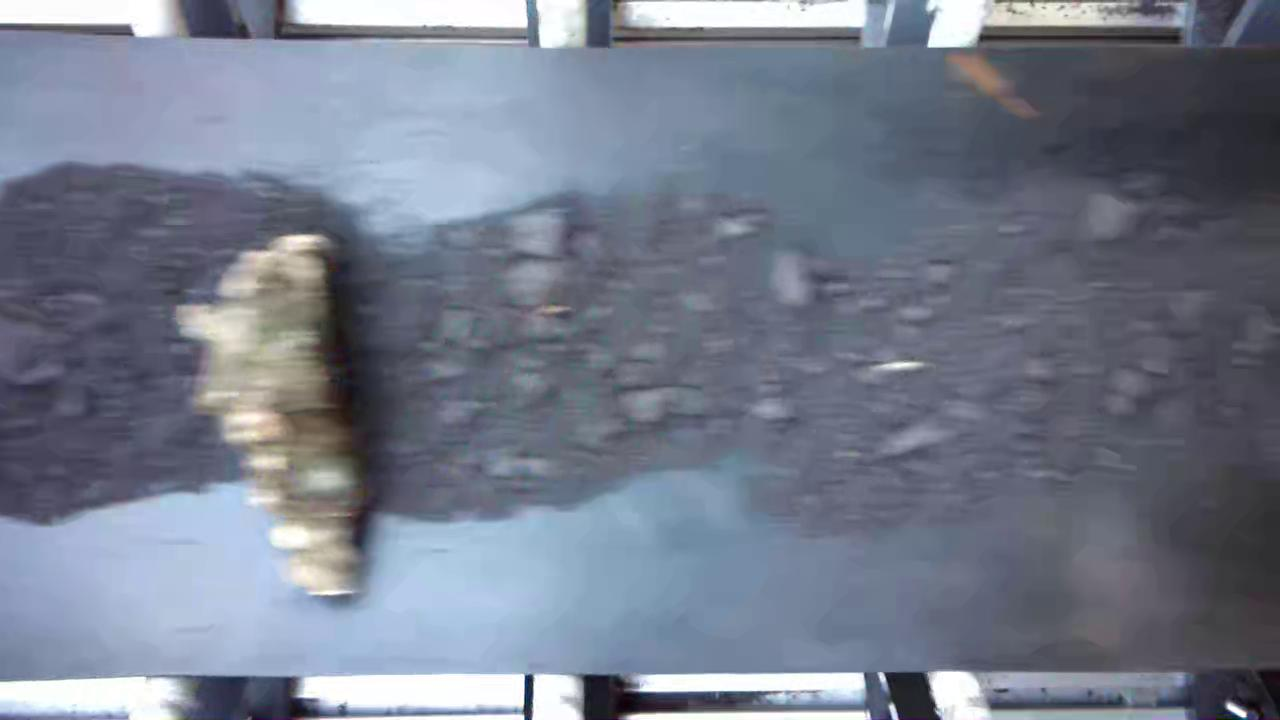conveyor: (0, 48, 1280, 663)
